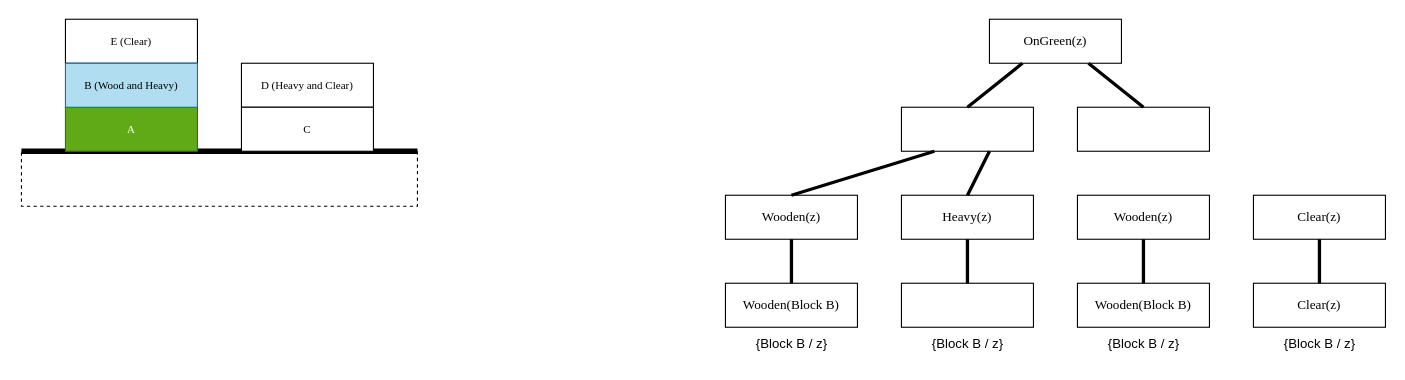
Image size: 1405x380. Some labels were removed from this diagram. The shapes that lost their labels are listed below. From the top down, each one's centre as x and y in pixels, then its label:
At [966,128]: "Big(z)".
At [1142,128]: "Blue(z)".
At [966,304]: "Heavy(Block B)".
